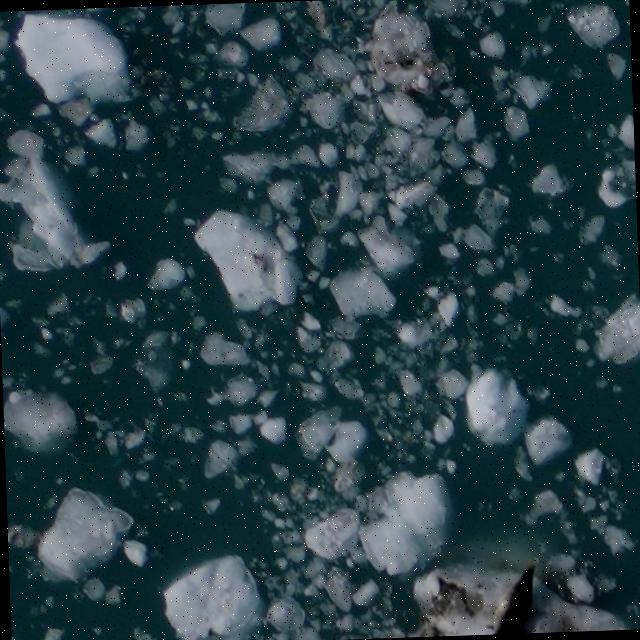seal: (489, 561, 537, 633)
